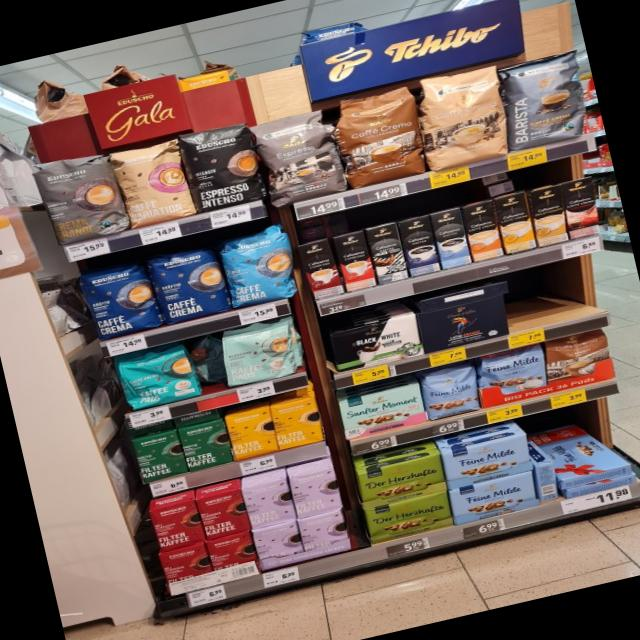BW Gemahlen: (328, 312, 424, 374)
Barista CC: (496, 48, 596, 150)
CC Mild: (415, 61, 516, 171)
CC Vollmundig 36 Pads: (330, 83, 430, 189)
Espresso Aromatisch: (250, 104, 349, 210)
FM Bohne: (419, 362, 483, 421)
FM Gemahlen: (441, 431, 535, 488), (447, 470, 541, 526)
Herzhatfe Mundig: (362, 489, 456, 545), (356, 452, 448, 508)
LG Gemahlen: (415, 292, 512, 353)
SM Gemahlen: (337, 381, 428, 440)
Simo CC Colombia: (559, 176, 603, 240)
Simo CCMild bigpack: (494, 191, 537, 254)
Simo CCVollmundig bigpack: (461, 199, 504, 261)
Simo Decaff: (527, 183, 572, 247)
Simo Es Brazil: (333, 229, 377, 292)
Simo Es Caramel: (297, 238, 343, 300)
Simo Es Elegant: (367, 222, 408, 284)
Simo Es Kraft: (398, 214, 441, 276)
Simo Es Vanilla: (431, 206, 472, 268)
